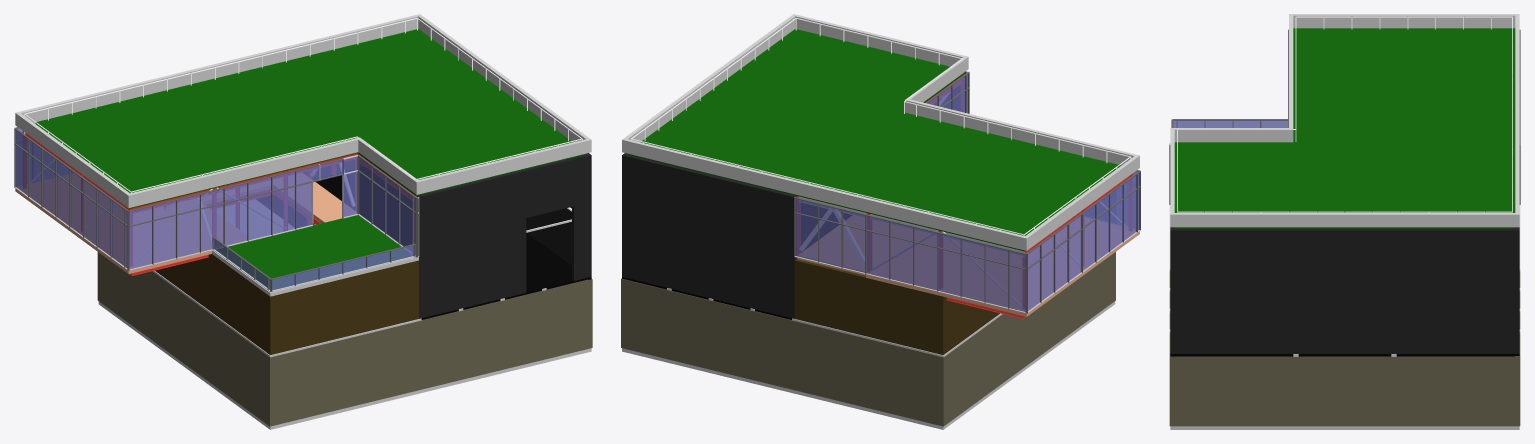
The model's file is CIVEshell.glb.
3 views of the same model, side by side, from view 1: azimuth 30°, elevation 25°; view 2: azimuth 150°, elevation 25°; view 3: azimuth 270°, elevation 25° (orthographic).
Parts seen in each view (by area): view 1: Floor Level 3 Timber Roof [417126], Basic Wall Foundation - 350mm Concrete [491168], Basic Wall HB Wall [493584], Basic Wall Foundation - 350mm Concrete [491170], Floor Mez Floor [414162], Basic Wall Workshop Wall [504384], Floor Intensive Roof Floor [454183], Basic Wall Parapet [502898], Floor High Bay Floor [452737], Basic Wall Workshop Wall [504632], Basic Wall Parapet [502558], Basic Wall Parapet [502260] (+26 smaller); view 2: Floor Level 3 Timber Roof [417126], Basic Wall Foundation - 350mm Concrete [491164], Basic Wall HB Wall [493334], Floor Mez Floor [414162], Basic Wall Foundation - 350mm Concrete [491170], Basic Wall Workshop Wall [505089], Basic Wall Parapet [502898], Basic Wall Parapet [502558], Basic Wall Parapet [503061], Basic Wall Parapet [502260], Floor Slab on Grade [414056], Basic Wall Workshop Wall [504632] (+22 smaller); view 3: Floor Level 3 Timber Roof [417126], Basic Wall HB Wall [493481], Basic Wall Foundation - 350mm Concrete [491166], Basic Wall Parapet [503061], Basic Wall Parapet [502695], Basic Wall Parapet [502373], Floor Slab on Grade [414056], Basic Wall Parapet [502898], Floor High Bay Floor [452737], Basic Wall HB Wall [493334], Basic Wall Foundation - 350mm Concrete [491164], Basic Wall Parapet [502558] (+1 smaller).
Part boxes in pixels (bbox=[...]): Floor Level 3 Timber Roof [417126]: bbox=[35, 29, 585, 208]; Basic Wall Foundation - 350mm Concrete [491168]: bbox=[267, 279, 588, 426]; Basic Wall HB Wall [493584]: bbox=[417, 154, 588, 318]; Basic Wall Foundation - 350mm Concrete [491170]: bbox=[97, 252, 267, 424]; Floor Mez Floor [414162]: bbox=[15, 173, 356, 274]; Basic Wall Workshop Wall [504384]: bbox=[268, 260, 418, 354]; Floor Intensive Roof Floor [454183]: bbox=[218, 215, 412, 289]; Basic Wall Parapet [502898]: bbox=[19, 14, 421, 122]; Floor High Bay Floor [452737]: bbox=[256, 167, 591, 319]; Basic Wall Workshop Wall [504632]: bbox=[155, 254, 267, 353]; Basic Wall Parapet [502558]: bbox=[126, 138, 358, 208]; Basic Wall Parapet [502260]: bbox=[414, 138, 591, 194]; Floor Level 3 Timber Roof [417126]: bbox=[627, 29, 1121, 251]; Basic Wall Foundation - 350mm Concrete [491164]: bbox=[621, 278, 939, 425]; Basic Wall HB Wall [493334]: bbox=[622, 154, 796, 318]; Floor Mez Floor [414162]: bbox=[797, 216, 1139, 316]; Basic Wall Foundation - 350mm Concrete [491170]: bbox=[939, 253, 1113, 426]; Basic Wall Workshop Wall [505089]: bbox=[794, 258, 939, 353]; Basic Wall Parapet [502898]: bbox=[622, 138, 1024, 249]; Basic Wall Parapet [502558]: bbox=[908, 99, 1139, 168]; Basic Wall Parapet [503061]: bbox=[624, 15, 795, 141]; Basic Wall Parapet [502260]: bbox=[792, 14, 968, 70]; Floor Slab on Grade [414056]: bbox=[622, 301, 1115, 429]; Basic Wall Workshop Wall [504632]: bbox=[939, 295, 999, 354]; Floor Level 3 Timber Roof [417126]: bbox=[1174, 28, 1515, 228]; Basic Wall HB Wall [493481]: bbox=[1170, 228, 1515, 353]; Basic Wall Foundation - 350mm Concrete [491166]: bbox=[1169, 355, 1515, 426]; Basic Wall Parapet [503061]: bbox=[1174, 213, 1515, 227]; Basic Wall Parapet [502695]: bbox=[1293, 14, 1519, 28]; Basic Wall Parapet [502373]: bbox=[1174, 128, 1293, 142]; Floor Slab on Grade [414056]: bbox=[1170, 426, 1519, 429]; Basic Wall Parapet [502898]: bbox=[1515, 15, 1519, 227]; Floor High Bay Floor [452737]: bbox=[1170, 354, 1519, 356]; Basic Wall HB Wall [493334]: bbox=[1515, 227, 1519, 353]; Basic Wall Foundation - 350mm Concrete [491164]: bbox=[1515, 271, 1520, 426]; Basic Wall Parapet [502558]: bbox=[1289, 14, 1293, 127].
Size of the model in its own units: 34.13 by 17 by 25.15.
